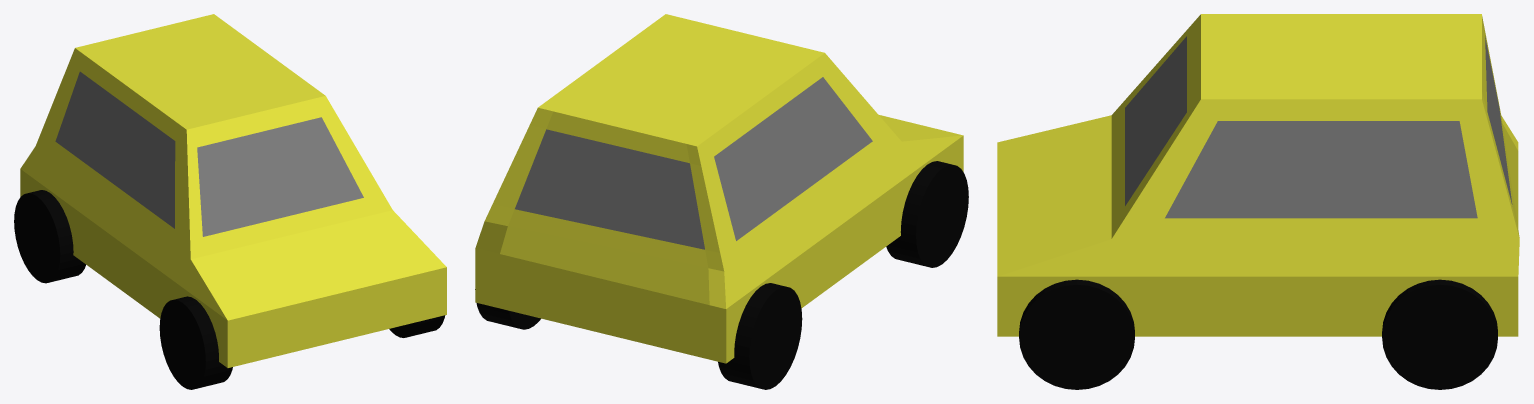
Rendered from YellowCar.fbx.
3 views of the same model, side by side, from view 1: azimuth 30°, elevation 25°; view 2: azimuth 150°, elevation 25°; view 3: azimuth 270°, elevation 25° (orthographic). The views are drawn at different scales.
Parts seen in each view (by area): view 1: Cube, Cylinder.002, Cylinder.003, Cylinder.001; view 2: Cube, Cylinder.003, Cylinder.002, Cylinder; view 3: Cube, Cylinder, Cylinder.001.
Boxes of the visible parts, box(x1,y1,x2,y2) form: Cube: box(20, 14, 446, 367); Cylinder.002: box(159, 296, 232, 389); Cylinder.003: box(14, 190, 85, 283); Cylinder.001: box(389, 315, 445, 337); Cube: box(475, 14, 963, 363); Cylinder.003: box(718, 283, 802, 389); Cylinder.002: box(886, 161, 968, 267); Cylinder: box(475, 289, 540, 329); Cube: box(997, 14, 1519, 336); Cylinder: box(1382, 279, 1497, 389); Cylinder.001: box(1019, 279, 1134, 389).
Bounding box in the file's own units: 530 × 438 × 794.
